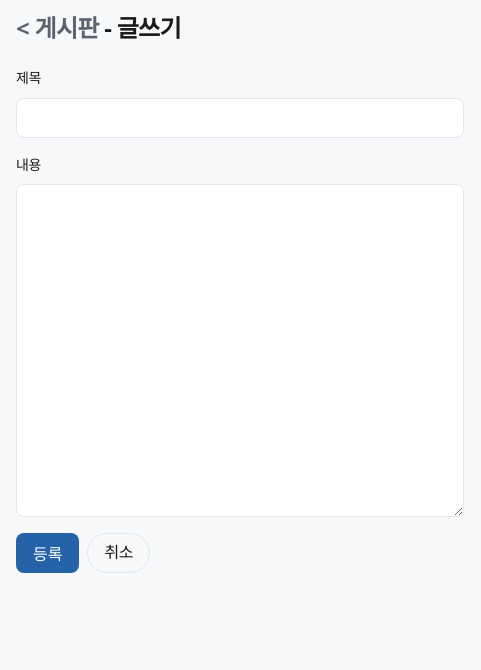
Test: 새 글 작성 › 서버 403은 안내로 표시된다
Type "제목" into the field labelled "제목".
click(240, 118); type("제목")  # box [16,98,464,138]
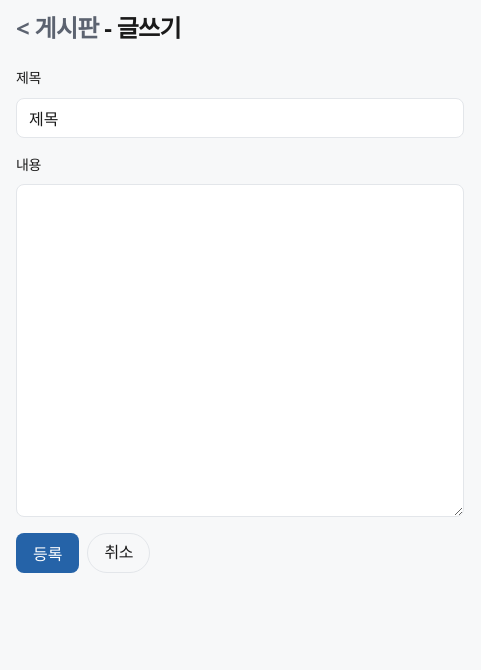
Type "내용" into the text box labelled "내용".
click(240, 351); type("내용")  # box [16,184,464,517]
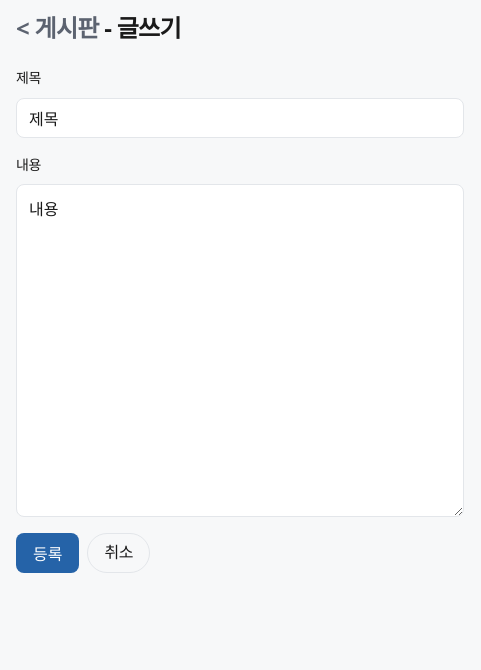
Click the button "등록".
click(48, 553)  # box [16,533,80,573]
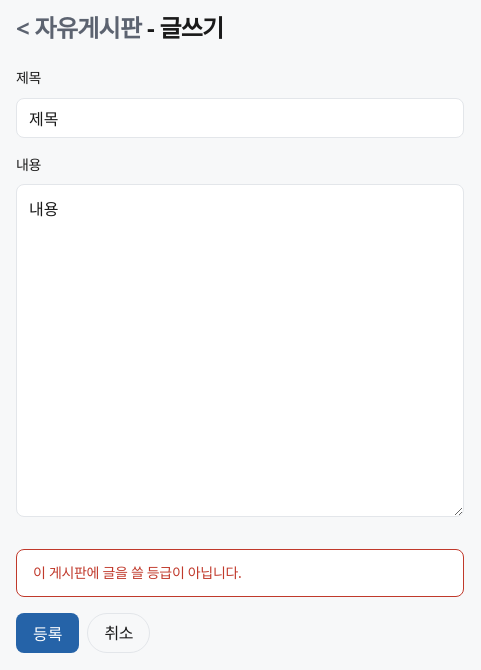
Expected: the message reads "이 게시판에 글을 쓸 등급이 아닙니다.", [33,563,241,582]
